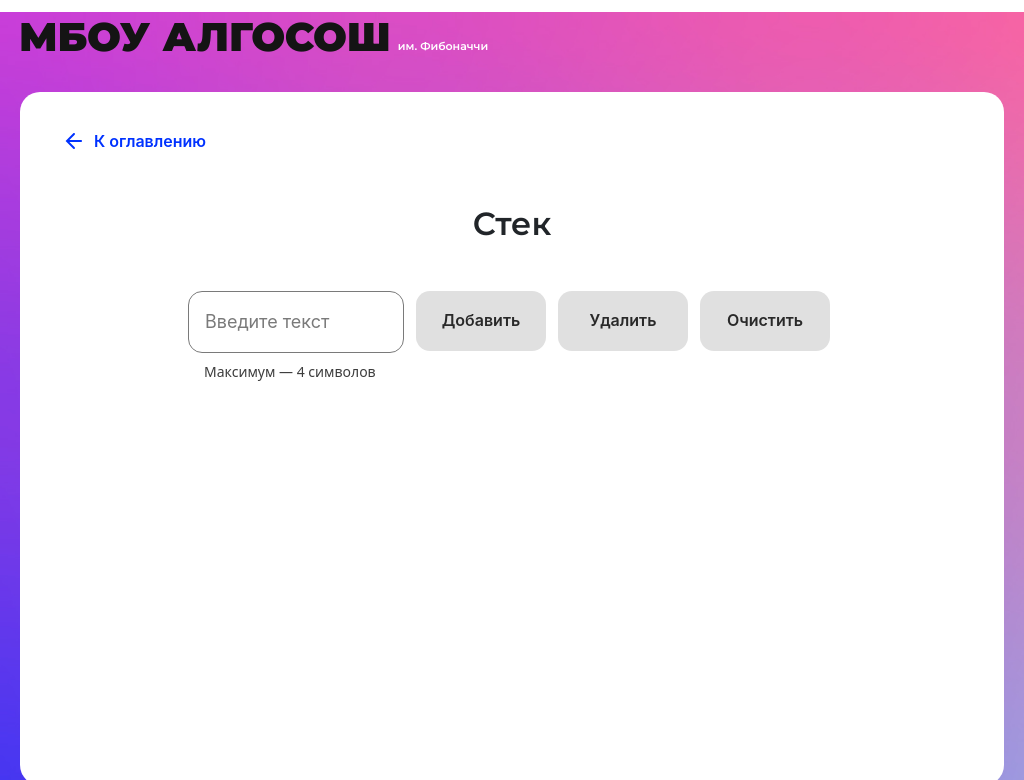
Scenario: stack page works correctly › limits the input length to 4 characters
Step 1. Type "string" into the field with placeholder "Введите текст" → {"x": 296, "y": 322}, box [188,291,404,353]
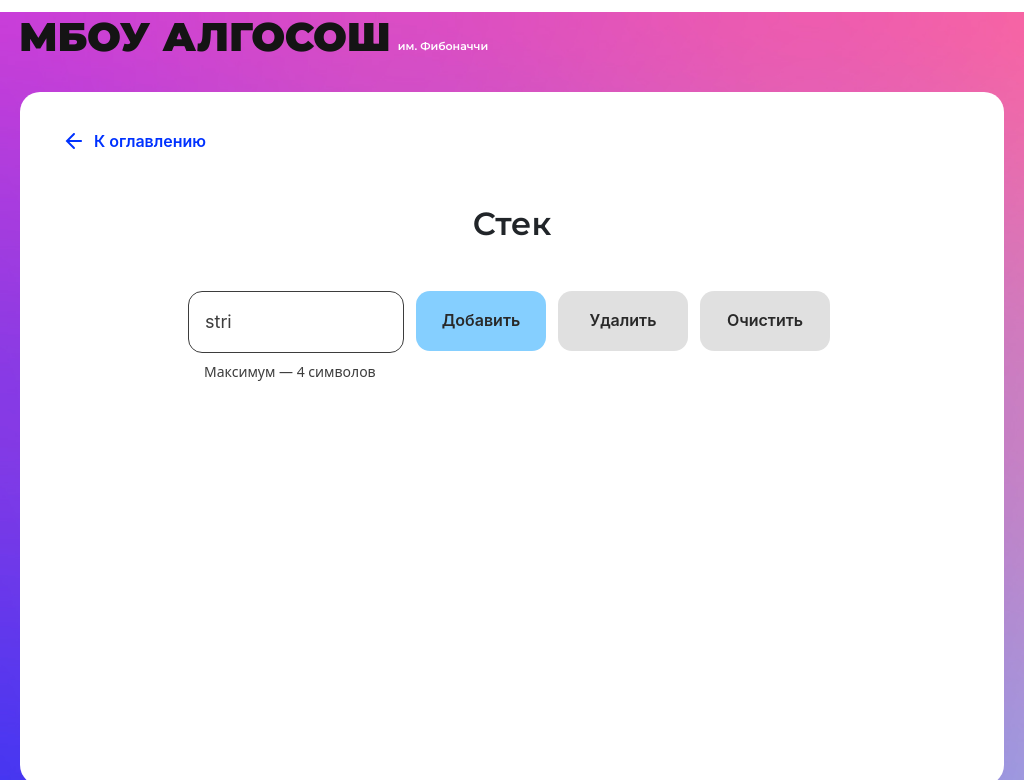
Expected: the text "Добавить" is enabled
Result: the field holds "stri" at [188,291,404,353]
